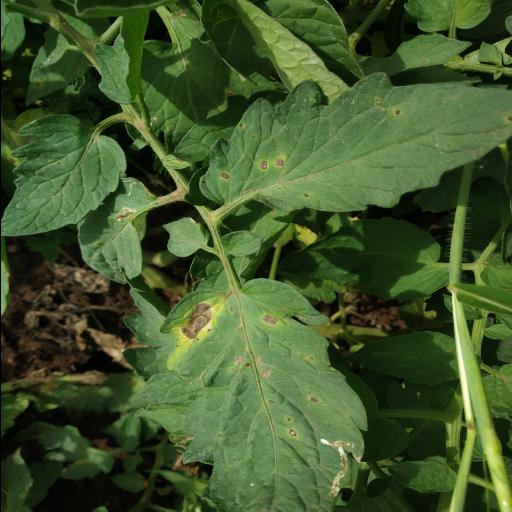Early Blight: (126, 280, 366, 512), (198, 74, 512, 212)
